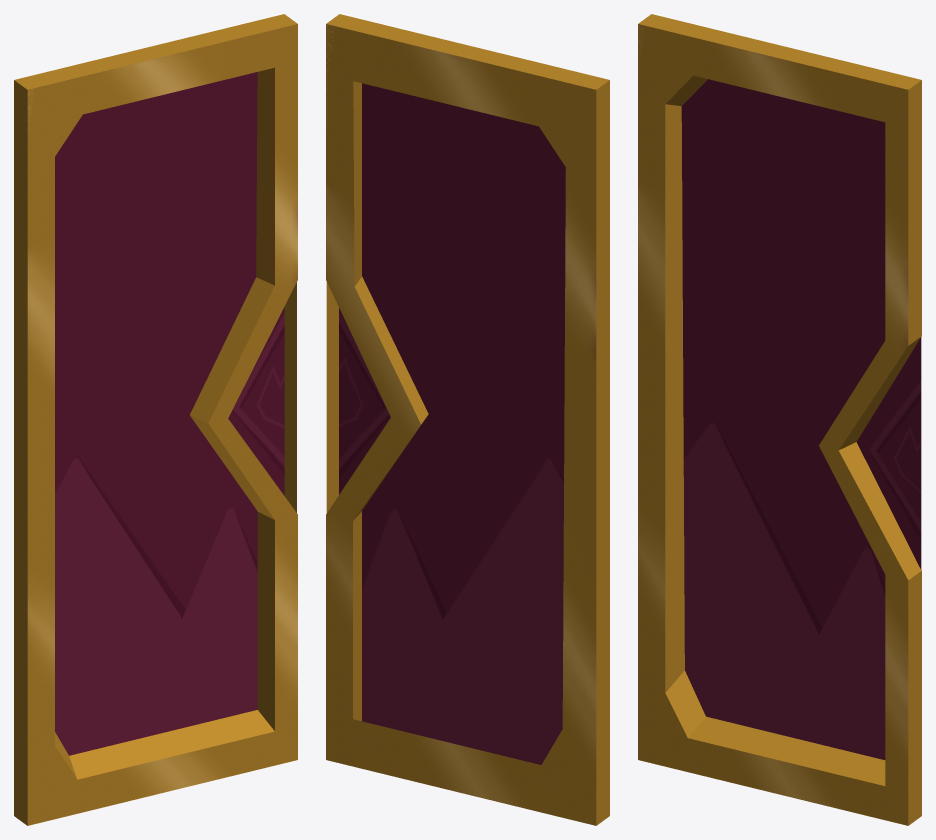
Rendered from portaE.gltf.
The picture shows the model from 3 angles, left to right: view 1: azimuth 30°, elevation 25°; view 2: azimuth 150°, elevation 25°; view 3: azimuth 330°, elevation 25°; orthographic projection.
Parts seen in each view (by area): view 1: Plano.002; view 2: Plano.002; view 3: Plano.002.
Part boxes in pixels (x1,y1,x2,y2): Plano.002: (14, 14, 297, 825); Plano.002: (326, 14, 609, 825); Plano.002: (638, 14, 921, 825).
Bounding box in the file's own units: 1.07 × 2.8 × 0.0933.
Materials: 1 (1 with a texture image).
